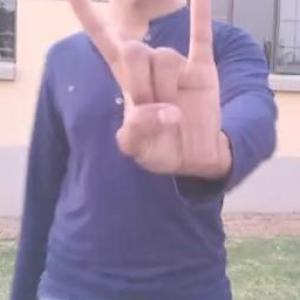takeoff-hand: (61, 0, 225, 182)
